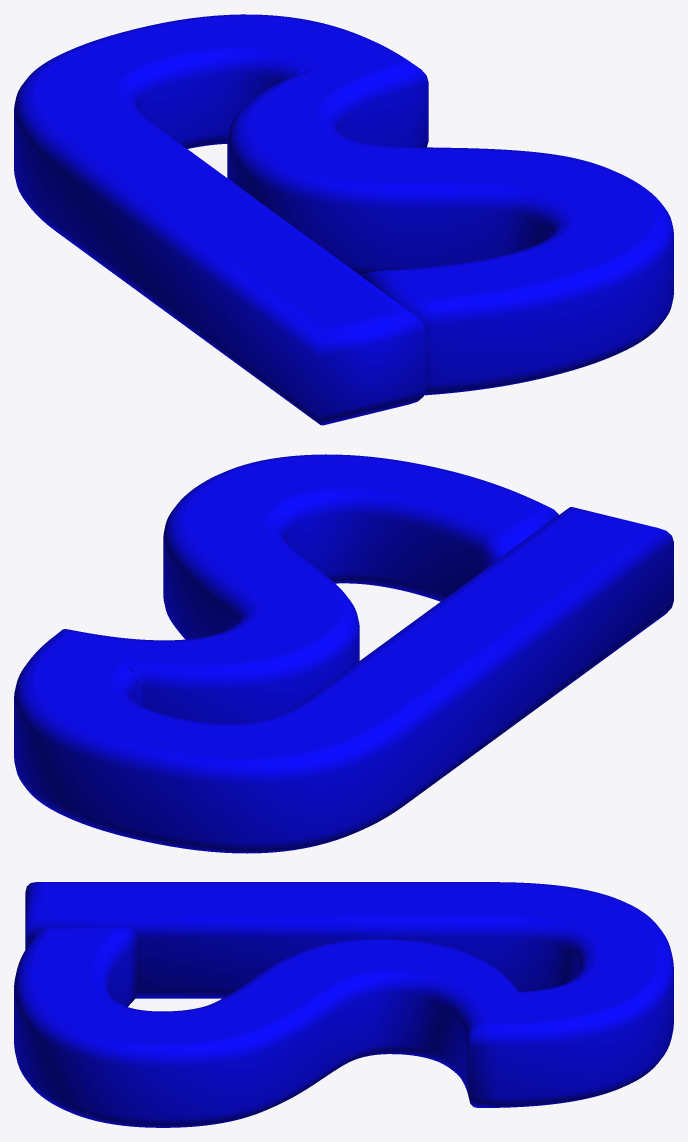
3 views of the same model, one above another, from view 1: azimuth 30°, elevation 25°; view 2: azimuth 150°, elevation 25°; view 3: azimuth 270°, elevation 25° (orthographic). The views are drawn at different scales.
Parts seen in each view (by area): view 1: 223; view 2: 223; view 3: 223.
Part boxes in pixels (bbox=[...]): 223: bbox=[14, 14, 673, 425]; 223: bbox=[14, 454, 673, 853]; 223: bbox=[14, 882, 673, 1127].
Size of the model in its own units: 0.729 by 0.16 by 1.16.
